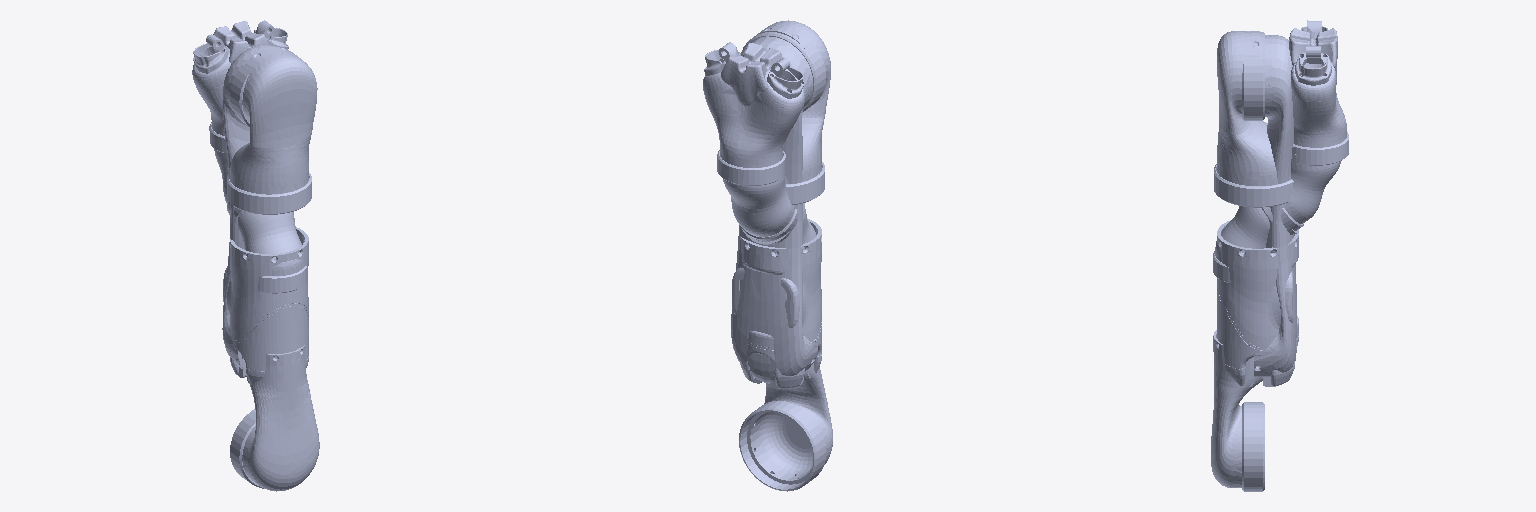
The robot description file, URDF, robot "mico":
<?xml version="1.0" ?>
<!-- =================================================================================== -->
<!-- |    This document was autogenerated by xacro from standalone_arm.xacro           | -->
<!-- |    EDITING THIS FILE BY HAND IS NOT RECOMMENDED                                 | -->
<!-- =================================================================================== -->
<robot name="mico" xmlns:body="http://playerstage.sourceforge.net/gazebo/xmlschema/#body" xmlns:controller="http://playerstage.sourceforge.net/gazebo/xmlschema/#controller" xmlns:gazebo="http://playerstage.sourceforge.net/gazebo/xmlschema/#gz" xmlns:geom="http://playerstage.sourceforge.net/gazebo/xmlschema/#geom" xmlns:interface="http://playerstage.sourceforge.net/gazebo/xmlschema/#interface" xmlns:joint="http://playerstage.sourceforge.net/gazebo/xmlschema/#joint" xmlns:model="http://playerstage.sourceforge.net/gazebo/xmlschema/#model" xmlns:physics="http://playerstage.sourceforge.net/gazebo/xmlschema/#physics" xmlns:renderable="http://playerstage.sourceforge.net/gazebo/xmlschema/#renderable" xmlns:rendering="http://playerstage.sourceforge.net/gazebo/xmlschema/#rendering" xmlns:sensor="http://playerstage.sourceforge.net/gazebo/xmlschema/#sensor" xmlns:xacro="http://ros.org/wiki/xacro" xmlns:xi="http://www.w3.org/2001/XInclude">
  <link name="root">
    <visual>
      <origin rpy="0 0 0" xyz="0 0 0"/>
      <geometry>
        <box size="0 0 0"/>
        <!--making it slightly bigger in x and z direction-->
      </geometry>
      <!--<material name="Black" /> -->
    </visual>
    <collision>
      <origin rpy="0 0 0" xyz="0 0 0"/>
      <geometry>
        <box size="0 0 0"/>
        <!--making it slightly bigger in x and z direction-->
      </geometry>
    </collision>
  </link>
  <link name="mico_link_base">
    <visual>
      <geometry>
        <mesh filename="package://mico_simplified/meshes/mico_link_base.dae"/>
      </geometry>
      <material name="carbon_fiber">
        <color rgba="0.792156862745098 0.819607843137255 0.933333333333333 1"/>
      </material>
    </visual>
    <collision>
      <geometry>
        <mesh filename="package://mico_simplified/meshes/mico_link_base.dae"/>
      </geometry>
    </collision>
  </link>
  <joint name="mico_joint_base" type="fixed">
    <parent link="root"/>
    <child link="mico_link_base"/>
    <axis xyz="0 0 0"/>
    <origin rpy="0 0 0" xyz="0 0 0"/>
  </joint>
  <link name="mico_link_1">
    <visual>
      <geometry>
        <mesh filename="package://mico_simplified/meshes/mico_link_1.dae"/>
      </geometry>
      <material name="carbon_fiber">
        <color rgba="0.792156862745098 0.819607843137255 0.933333333333333 1"/>
      </material>
    </visual>
    <collision>
      <geometry>
        <mesh filename="package://mico_simplified/meshes/mico_link_1.dae"/>
      </geometry>
    </collision>
  </link>
  <joint name="mico_joint_1" type="continuous">
    <parent link="mico_link_base"/>
    <child link="mico_link_1"/>
    <axis xyz="0 0 1"/>
    <origin rpy="3.14159265359 0 0" xyz="0 0 0.1535"/>
  </joint>
  <link name="mico_link_2">
    <visual>
      <geometry>
        <mesh filename="package://mico_simplified/meshes/mico_link_2.dae"/>
      </geometry>
      <material name="carbon_fiber">
        <color rgba="0.792156862745098 0.819607843137255 0.933333333333333 1"/>
      </material>
    </visual>
    <collision>
      <geometry>
        <mesh filename="package://mico_simplified/meshes/mico_link_2.dae"/>
      </geometry>
    </collision>
  </link>
  <joint name="mico_joint_2" type="continuous">
    <parent link="mico_link_1"/>
    <child link="mico_link_2"/>
    <axis xyz="0 0 1"/>
    <origin rpy="-1.57079632679 -1.57079632679 0" xyz="0 0 -0.1185"/>
  </joint>
  <link name="mico_link_3">
    <visual>
      <geometry>
        <mesh filename="package://mico_simplified/meshes/mico_link_3.dae"/>
      </geometry>
      <material name="carbon_fiber">
        <color rgba="0.792156862745098 0.819607843137255 0.933333333333333 1"/>
      </material>
    </visual>
    <collision>
      <geometry>
        <mesh filename="package://mico_simplified/meshes/mico_link_3.dae"/>
      </geometry>
    </collision>
  </link>
  <joint name="mico_joint_3" type="continuous">
    <parent link="mico_link_2"/>
    <child link="mico_link_3"/>
    <axis xyz="0 0 1"/>
    <origin rpy="3.14159265359 0 3.14159265359" xyz="0.41 0 0"/>
  </joint>
  <link name="mico_link_4">
    <visual>
      <geometry>
        <mesh filename="package://mico_simplified/meshes/mico_link_4.dae"/>
      </geometry>
      <material name="carbon_fiber">
        <color rgba="0.792156862745098 0.819607843137255 0.933333333333333 1"/>
      </material>
    </visual>
    <collision>
      <geometry>
        <mesh filename="package://mico_simplified/meshes/mico_link_4.dae"/>
      </geometry>
    </collision>
  </link>
  <joint name="mico_joint_4" type="continuous">
    <parent link="mico_link_3"/>
    <child link="mico_link_4"/>
    <axis xyz="0 0 1"/>
    <origin rpy="0 -1.57079632679 0" xyz="0.207 0 -0.01125"/>
  </joint>
  <link name="mico_link_5">
    <visual>
      <geometry>
        <mesh filename="package://mico_simplified/meshes/mico_link_5.dae"/>
      </geometry>
      <material name="carbon_fiber">
        <color rgba="0.792156862745098 0.819607843137255 0.933333333333333 1"/>
      </material>
    </visual>
    <collision>
      <geometry>
        <mesh filename="package://mico_simplified/meshes/mico_link_5.dae"/>
      </geometry>
    </collision>
  </link>
  <joint name="mico_joint_5" type="continuous">
    <parent link="mico_link_4"/>
    <child link="mico_link_5"/>
    <axis xyz="0 0 1"/>
    <origin rpy="0 0.959931088597 3.14159265359" xyz="0.0343 0 -0.06588"/>
  </joint>
  <link name="mico_link_hand">
    <visual>
      <geometry>
        <mesh filename="package://mico_simplified/meshes/mico_link_hand.dae"/>
      </geometry>
      <material name="carbon_fiber">
        <color rgba="0.792156862745098 0.819607843137255 0.933333333333333 1"/>
      </material>
    </visual>
    <collision>
      <geometry>
        <mesh filename="package://mico_simplified/meshes/mico_link_hand.dae"/>
      </geometry>
    </collision>
  </link>
  <joint name="mico_joint_6" type="continuous">
    <parent link="mico_link_5"/>
    <child link="mico_link_hand"/>
    <axis xyz="0 0 1"/>
    <origin rpy="0 0.959931088597 3.14159265359" xyz="0.0343 0 -0.06588"/>
  </joint>

<!--
  <link name="mico_link_finger_1">
    <visual>
      <geometry>
        <mesh filename="package://mico_simplified/meshes/mico_link_finger_1.dae"/>
      </geometry>
      <material name="carbon_fiber">
        <color rgba="0.792156862745098 0.819607843137255 0.933333333333333 1"/>
      </material>
    </visual>
    <collision>
      <geometry>
        <mesh filename="package://mico_simplified/meshes/mico_link_finger_1.dae"/>
      </geometry>
    </collision>
  </link>
  <joint name="mico_joint_finger_1" type="revolute">
    <parent link="mico_link_hand"/>
    <child link="mico_link_finger_1"/>
    <axis xyz="0 0 1"/>
    <origin rpy="-1.7983 1.117 3.1416" xyz="-0.03978 0 -0.10071"/>
    <limit effort="30" lower="0" upper="0.698131700798" velocity="5"/>
  </joint>
  <link name="mico_link_finger_2">
    <visual>
      <geometry>
        <mesh filename="package://mico_simplified/meshes/mico_link_finger_2.dae"/>
      </geometry>
      <material name="carbon_fiber">
        <color rgba="0.792156862745098 0.819607843137255 0.933333333333333 1"/>
      </material>
    </visual>
    <collision>
      <geometry>
        <mesh filename="package://mico_simplified/meshes/mico_link_finger_2.dae"/>
      </geometry>
    </collision>
  </link>
  <joint name="mico_joint_finger_2" type="revolute">
    <parent link="mico_link_hand"/>
    <child link="mico_link_finger_2"/>
    <axis xyz="0 0 1"/>
    <origin rpy="-1.6222 1.117 -0.23615" xyz="0.03569 -0.0216 -0.10071"/>
    <limit effort="30" lower="0" upper="0.698131700798" velocity="5"/>
  </joint> -->
 <link
    name="mico_link_finger_1">
    
    <inertial>
      <origin
        xyz="0.0172616572113394 0.0105538611465319 -0.0112506191776746"
        rpy="0 0 0" />
          <mass
        value="0.4" />
      <inertia
        ixx="0.00025595"
        ixy="-1.199E-08"
        ixz="4.5804E-06"
        iyy="0.00020193"
        iyz="5.0676E-08"
        izz="0.00013393" />
  </inertial>
    <visual>
      <origin
        xyz="0 0 0"
        rpy="0 0 0" />
      <geometry>
        <mesh
          filename="package://mico_simplified/meshes/mico_link_finger_1.STL" />
      </geometry>
      <material
        name="">
        <color
          rgba="0.792156862745098 0.819607843137255 0.933333333333333 1" />
      </material>
    </visual>
    <collision>
      <origin
        xyz="0 0 0"
        rpy="0 0 0" />
      <geometry>
        <mesh
          filename="package://mico_simplified/meshes/mico_link_finger_1.STL" />
      </geometry>
    </collision>
  </link>
  <joint
    name="mico_joint_finger_1"
    type="revolute">
    <origin
      xyz="-0.013746 0.030948 -0.11107"
      rpy="-1.5708 3.3457E-16 1.5708" />
    <parent
      link="mico_link_hand" />
    <child
      link="mico_link_finger_1" />
    <axis
      xyz="0 0 1" />
    <limit
      lower="-0.001"
      upper="0.78"
      effort="100"
      velocity="1" />
    <dynamics damping="0.01" />
          <safety_controller k_position="100" k_velocity="10"
                         soft_lower_limit="-0.1" soft_upper_limit=".75" />
  </joint>
  <link
    name="mico_link_finger_1_distal">
    <inertial>
      <origin
        xyz="0.0126210373400246 0.00643480436760779 -0.0112500681940836"
        rpy="0 0 0" />
          <mass
        value="0.4" />
      <inertia
        ixx="0.00025595"
        ixy="-1.199E-08"
        ixz="4.5804E-06"
        iyy="0.00020193"
        iyz="5.0676E-08"
        izz="0.00013393" />
    </inertial>
    <visual>
      <origin
        xyz="0 0 0"
        rpy="0 0 0" />
      <geometry>
        <mesh
          filename="package://mico_simplified/meshes/mico_link_finger_1_distal.STL" />
      </geometry>
      <material
        name="">
        <color
          rgba="0.792156862745098 0.819607843137255 0.933333333333333 1" />
      </material>
    </visual>
    <collision>
      <origin
        xyz="0 0 0"
        rpy="0 0 0" />
      <geometry>
        <mesh
          filename="package://mico_simplified/meshes/mico_link_finger_1_distal.STL" />
      </geometry>
    </collision>
  </link>
  <joint
    name="mico_joint_finger_1_distal"
    type="revolute">
    <origin
      xyz="0.026055 0.035582 0"
      rpy="-4.0279E-17 6.1154E-17 -4.7179E-31" />
    <parent
      link="mico_link_finger_1" />
    <child
      link="mico_link_finger_1_distal" />
    <axis
      xyz="0 0 -1" />
    <limit
      lower="-0.001"
      upper="0.78"
      effort="100"
      velocity="1" />
    <dynamics damping="0.01" />
      <safety_controller k_position="100" k_velocity="10"
                         soft_lower_limit="-0.1" soft_upper_limit=".75" />
  </joint>
  <link
    name="mico_link_finger_2">
    <inertial>
      <origin
        xyz="-0.0172616584345737 -0.0105538552511416 0.0112493808527515"
        rpy="0 0 0" />
          <mass
        value="0.4" />
      <inertia
        ixx="0.00025595"
        ixy="-1.199E-08"
        ixz="4.5804E-06"
        iyy="0.00020193"
        iyz="5.0676E-08"
        izz="0.00013393" />
    </inertial>
    <visual>
      <origin
        xyz="0 0 0"
        rpy="0 0 0" />
      <geometry>
        <mesh
          filename="package://mico_simplified/meshes/mico_link_finger_2.STL" />
      </geometry>
      <material
        name="">
        <color
          rgba="0.792156862745098 0.819607843137255 0.933333333333333 1" />
      </material>
    </visual>
    <collision>
      <origin
        xyz="0 0 0"
        rpy="0 0 0" />
      <geometry>
        <mesh
          filename="package://mico_simplified/meshes/mico_link_finger_2.STL" />
      </geometry>
    </collision>
  </link>
  <joint
    name="mico_joint_finger_2"
    type="revolute">
    <origin
      xyz="-0.013746 -0.030948 -0.11107"
      rpy="1.5708 3.3457E-16 1.5708" />
    <parent
      link="mico_link_hand" />
    <child
      link="mico_link_finger_2" />
    <axis
      xyz="0 0 1" />
    <limit
      lower="-0.001"
      upper="0.78"
      effort="100"
      velocity="1" />
    <dynamics damping="0.01" />
      <safety_controller k_position="5000" k_velocity="20"
                         soft_lower_limit="-0.1" soft_upper_limit=".75" />
  </joint>
  <link
    name="mico_link_finger_2_distal">
    <inertial>
      <origin
        xyz="-0.0126210373425155 -0.00643480437565225 0.0112499318045061"
        rpy="0 0 0" />
          <mass
        value="0.4" />
      <inertia
        ixx="0.00025595"
        ixy="-1.199E-08"
        ixz="4.5804E-06"
        iyy="0.00020193"
        iyz="5.0676E-08"
        izz="0.00013393" />
    </inertial>
    <visual>
      <origin
        xyz="0 0 0"
        rpy="0 0 0" />
      <geometry>
        <mesh
          filename="package://mico_simplified/meshes/mico_link_finger_2_distal.STL" />
      </geometry>
      <material
        name="">
        <color
          rgba="0.792156862745098 0.819607843137255 0.933333333333333 1" />
      </material>
    </visual>
    <collision>
      <origin
        xyz="0 0 0"
        rpy="0 0 0" />
      <geometry>
        <mesh
          filename="package://mico_simplified/meshes/mico_link_finger_2_distal.STL" />
      </geometry>
    </collision>
  </link>
  <joint
    name="mico_joint_finger_2_distal"
    type="revolute">
    <origin
      xyz="-0.026055 -0.035582 0"
      rpy="4.8081E-17 -4.6577E-17 -5.6023E-31" />
    <parent
      link="mico_link_finger_2" />
    <child
      link="mico_link_finger_2_distal" />
    <axis
      xyz="0 0 -1" />
    <limit
      lower="-0.01"
      upper="0.78"
      effort="100"
      velocity=".2" />
    <dynamics damping="0.001" />
      <safety_controller k_position="5000" k_velocity="20"
                         soft_lower_limit="-0.1" soft_upper_limit=".75" />
  </joint>


</robot>

--- What the picture shows (computed from the rendered views, not written in the file) ---
3 views of the same robot in one strip: view 1: azimuth 30°, elevation 25°; view 2: azimuth 150°, elevation 25°; view 3: azimuth 270°, elevation 25° (orthographic).
Robot: mico — 12 links, 11 joints (4 revolute, 6 continuous, 1 fixed); root link root; default pose: every joint at zero.
Visible links, largest first — view 1: mico_link_1, mico_link_3, mico_link_base, mico_link_hand, mico_link_4, mico_link_2; view 2: mico_link_hand, mico_link_2, mico_link_3, mico_link_base, mico_link_1, mico_link_5; view 3: mico_link_2, mico_link_base, mico_link_1, mico_link_hand, mico_link_3, mico_link_5, mico_link_4.
Link boxes in pixels (x1,y1,x2,y2): mico_link_1: [227, 47, 317, 214]; mico_link_3: [230, 345, 319, 491]; mico_link_base: [223, 227, 308, 384]; mico_link_hand: [192, 20, 288, 152]; mico_link_4: [238, 211, 306, 293]; mico_link_2: [222, 45, 285, 370]; mico_link_hand: [703, 42, 804, 185]; mico_link_2: [731, 30, 826, 383]; mico_link_3: [739, 363, 832, 491]; mico_link_base: [732, 218, 821, 388]; mico_link_1: [752, 20, 830, 204]; mico_link_5: [723, 171, 804, 241]; mico_link_2: [1242, 32, 1296, 378]; mico_link_base: [1217, 220, 1298, 386]; mico_link_1: [1214, 31, 1293, 207]; mico_link_hand: [1289, 20, 1348, 165]; mico_link_3: [1211, 330, 1264, 491]; mico_link_5: [1262, 154, 1340, 230]; mico_link_4: [1213, 206, 1298, 282].
Bounding box of the posed robot: 0.1091 × 0.139 × 0.5007 m (x, y, z).
Meshes: 11 distinct files referenced, 7 mesh visuals loaded (7 Collada DAE); not drawn: 4 (reference not matched to a file when rendering).
